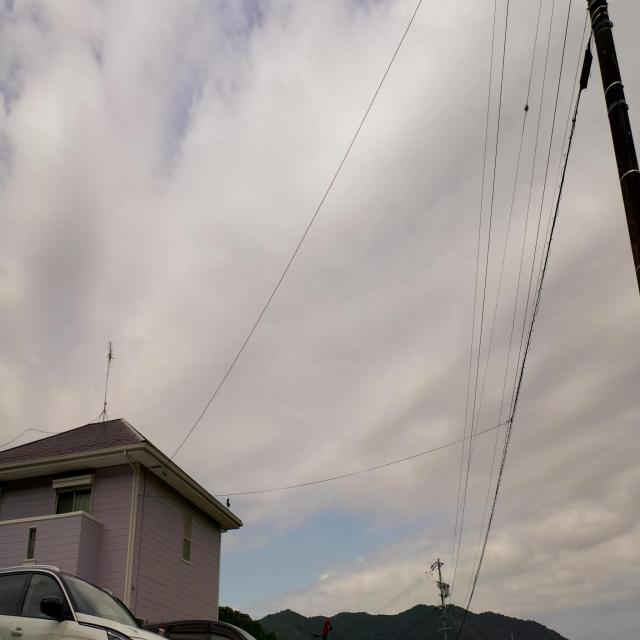Birds: (220, 492, 236, 517)
